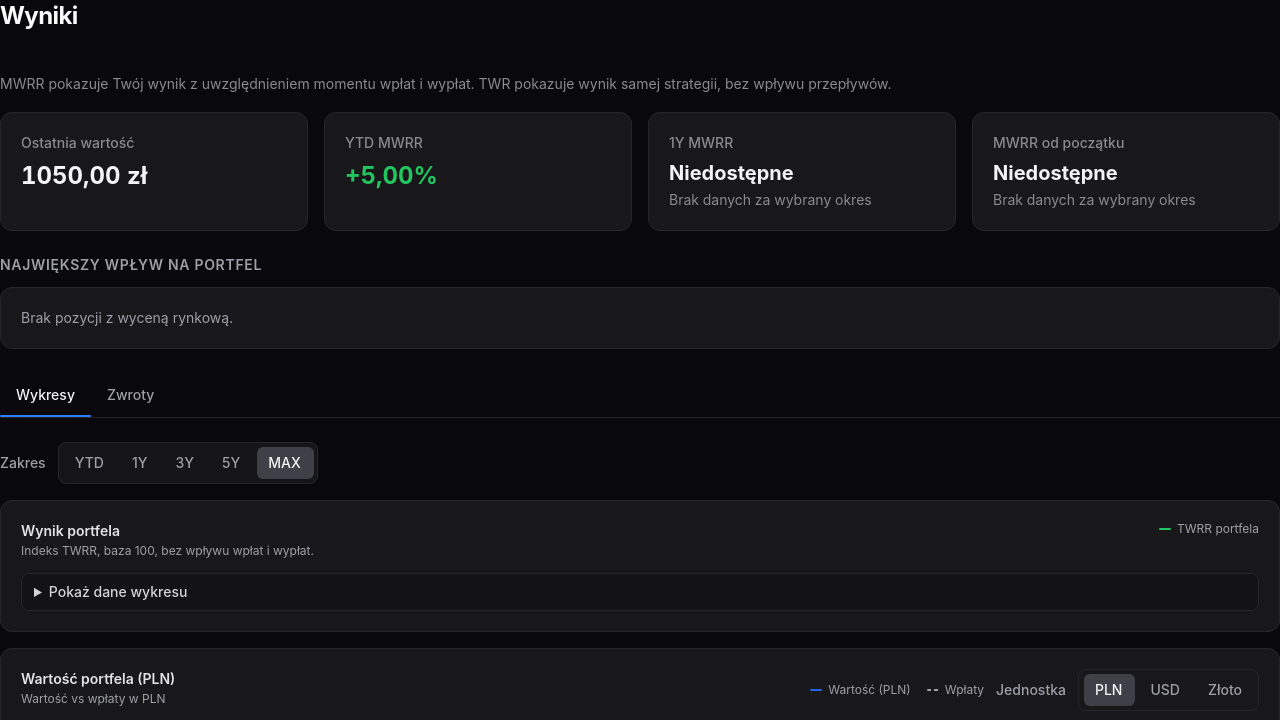
Test: PerformanceScreen › keeps the returns tab stable when the API omits risk metrics
What coordinates should you click on to do the following:
click the tab "Zwroty"
I would click on:
 (131, 395)
Its box is [91,373,170,417].
(page scrolled)
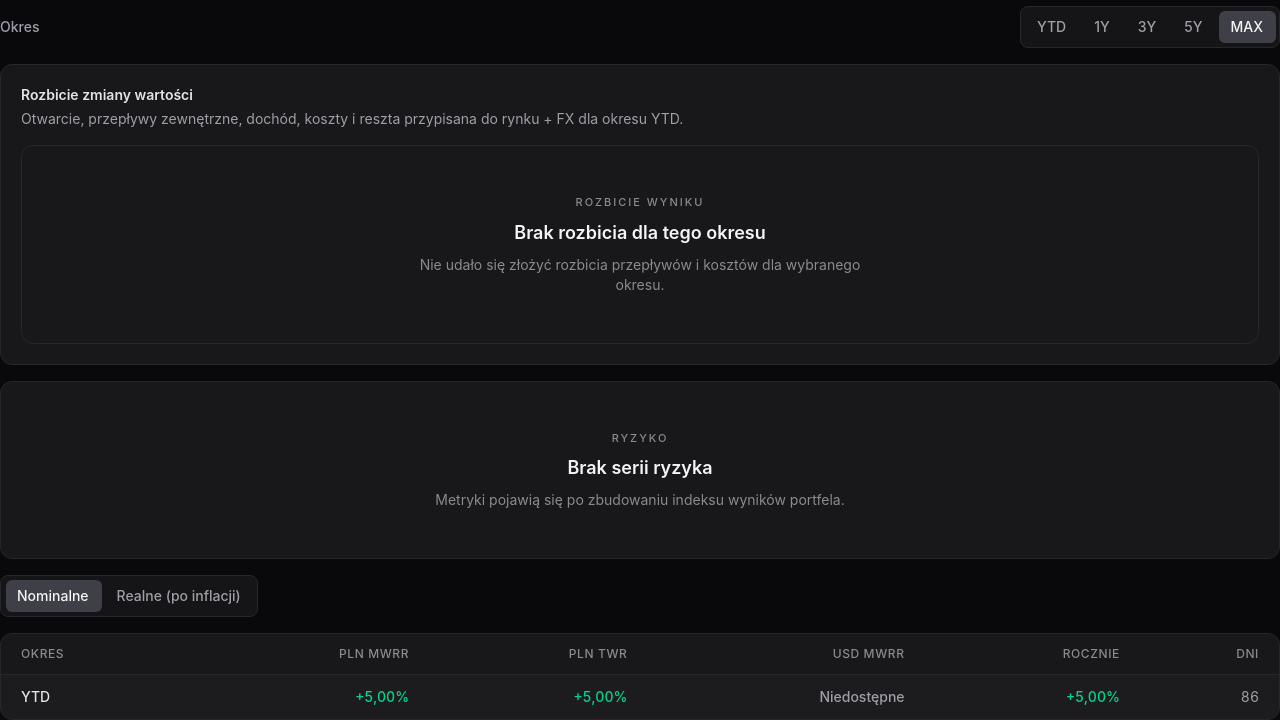
Check: the heading "Brak serii ryzyka" is shown, box [567,454,713,482]
